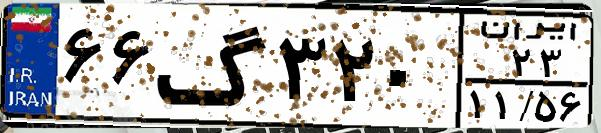0: (385, 28, 445, 110)
1: (470, 70, 495, 125), (495, 70, 520, 125)
2: (330, 28, 385, 110), (508, 27, 537, 80)
3: (270, 28, 330, 110), (537, 27, 568, 80)
5: (535, 70, 560, 125)
6: (57, 26, 110, 100), (110, 28, 156, 98), (560, 70, 590, 125)
گ: (156, 12, 270, 120)
